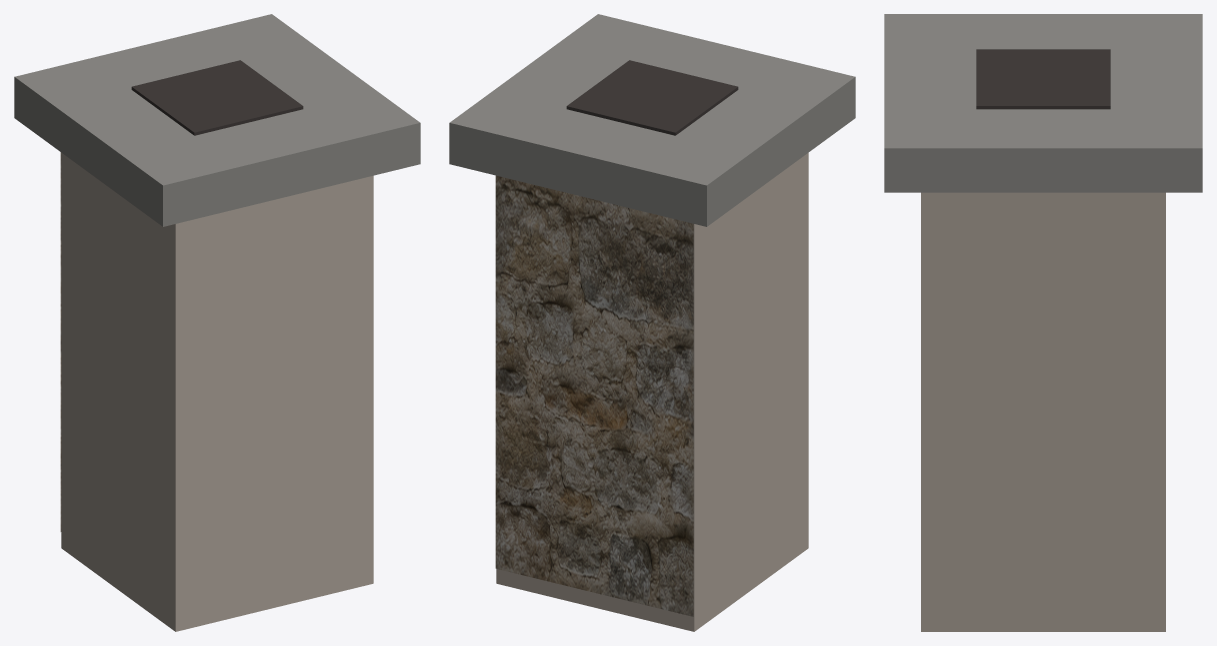
The model's file is kamin_tuffstein_1_7m.glb.
3 renders of one model, left to right at view 1: azimuth 30°, elevation 25°; view 2: azimuth 150°, elevation 25°; view 3: azimuth 270°, elevation 25°, orthographic. The views are drawn at different scales.
Visible parts, largest first — view 1: chimney_body, chimney_cap, chimney_top_opening, chimney_front; view 2: chimney_front, chimney_body, chimney_cap, chimney_top_opening; view 3: chimney_body, chimney_cap, chimney_top_opening.
Boxes of the visible parts, x1,y1,x2,y2 form: chimney_body: (61, 153, 373, 631); chimney_cap: (14, 14, 420, 226); chimney_top_opening: (131, 60, 303, 135); chimney_front: (60, 152, 61, 531); chimney_front: (495, 175, 693, 616); chimney_body: (496, 153, 808, 631); chimney_cap: (449, 14, 855, 226); chimney_top_opening: (566, 60, 738, 135); chimney_body: (921, 192, 1165, 631); chimney_cap: (884, 14, 1202, 192); chimney_top_opening: (976, 49, 1110, 109).
Bounding box in the file's own units: 1.04 × 1.81 × 1.04.
Materials: 1 (1 with a texture image).
